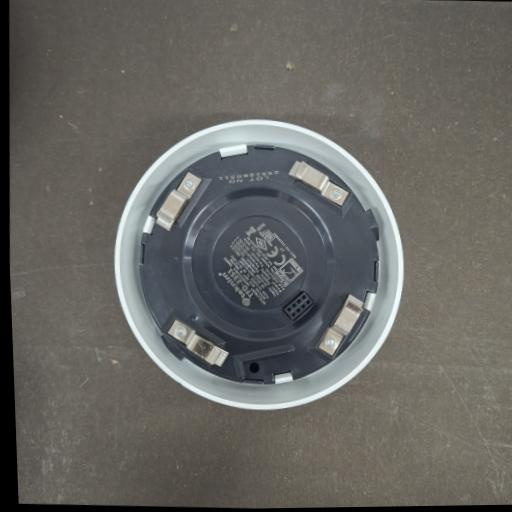yayli: (164, 317, 232, 368), (151, 169, 204, 233), (316, 292, 367, 357), (287, 158, 351, 208)
